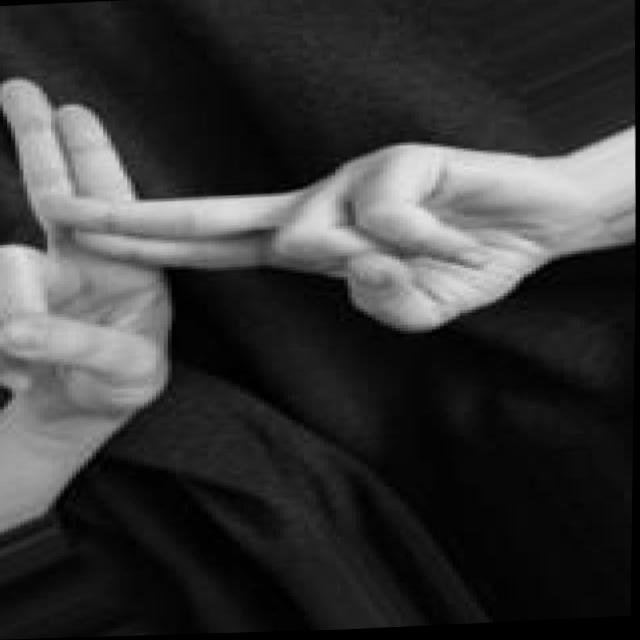K: (0, 38, 639, 418)
